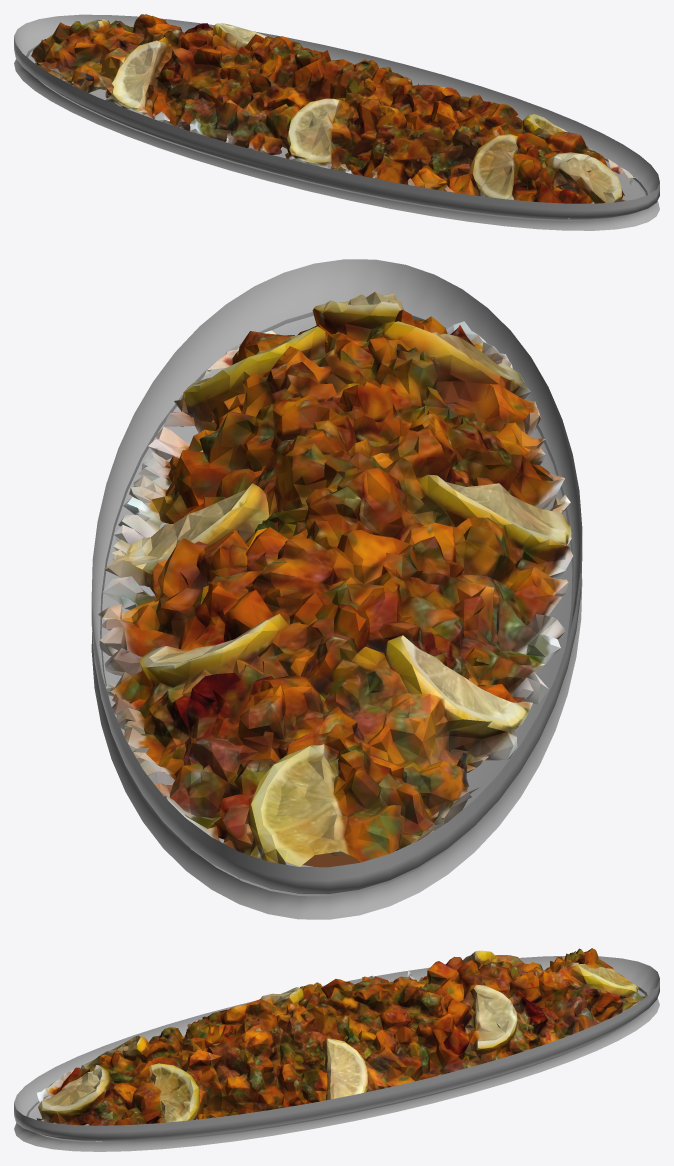
The model's file is OvalDishwMat.fbx.
The picture shows the model from 3 angles, top to bottom: view 1: azimuth 30°, elevation 25°; view 2: azimuth 150°, elevation 25°; view 3: azimuth 270°, elevation 25°; orthographic projection. The views are drawn at different scales.
Parts seen in each view (by area): view 1: pCylinder2; view 2: pCylinder2; view 3: pCylinder2.
Part boxes in pixels (bbox=[...]): pCylinder2: bbox=[14, 14, 659, 230]; pCylinder2: bbox=[91, 259, 582, 919]; pCylinder2: bbox=[14, 948, 659, 1151].
Size of the model in its own units: 2.19 by 0.47 by 3.51.
2 materials, 1 textured.
